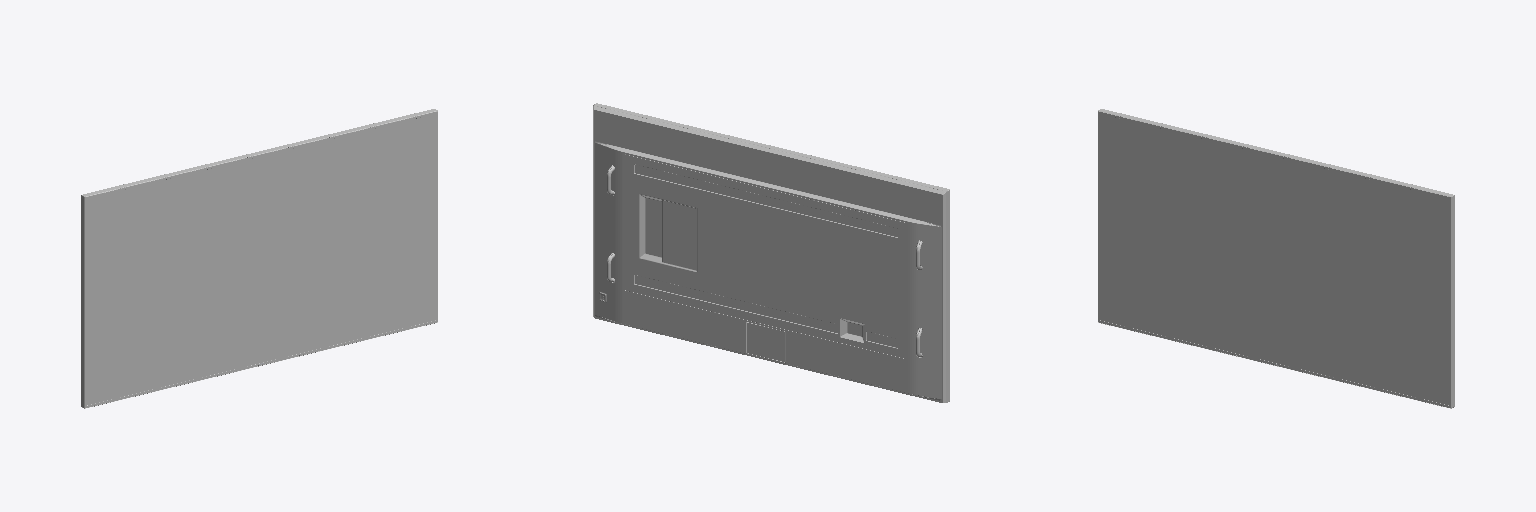
The picture shows the model from 3 angles: view 1: azimuth 30°, elevation 25°; view 2: azimuth 150°, elevation 25°; view 3: azimuth 330°, elevation 25°; orthographic projection.
Visible parts, largest first — view 1: SM_TV_Samsung_2; view 2: SM_TV_Samsung_2; view 3: SM_TV_Samsung_2.
Boxes of the visible parts, x1,y1,x2,y2 form: SM_TV_Samsung_2: [81, 109, 437, 408]; SM_TV_Samsung_2: [593, 103, 949, 402]; SM_TV_Samsung_2: [1098, 109, 1454, 408].
Size of the model in its own units: 190 by 109 by 10.43.
Materials: 4 (1 with a texture image).